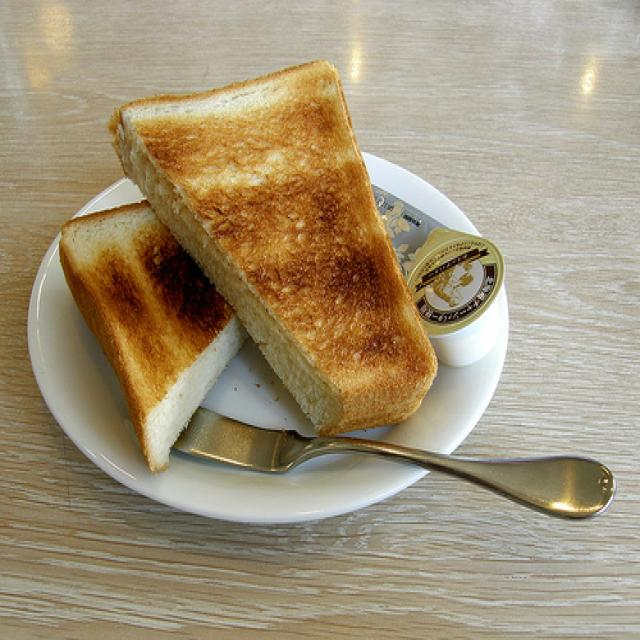面包点心: (74, 77, 435, 471)
